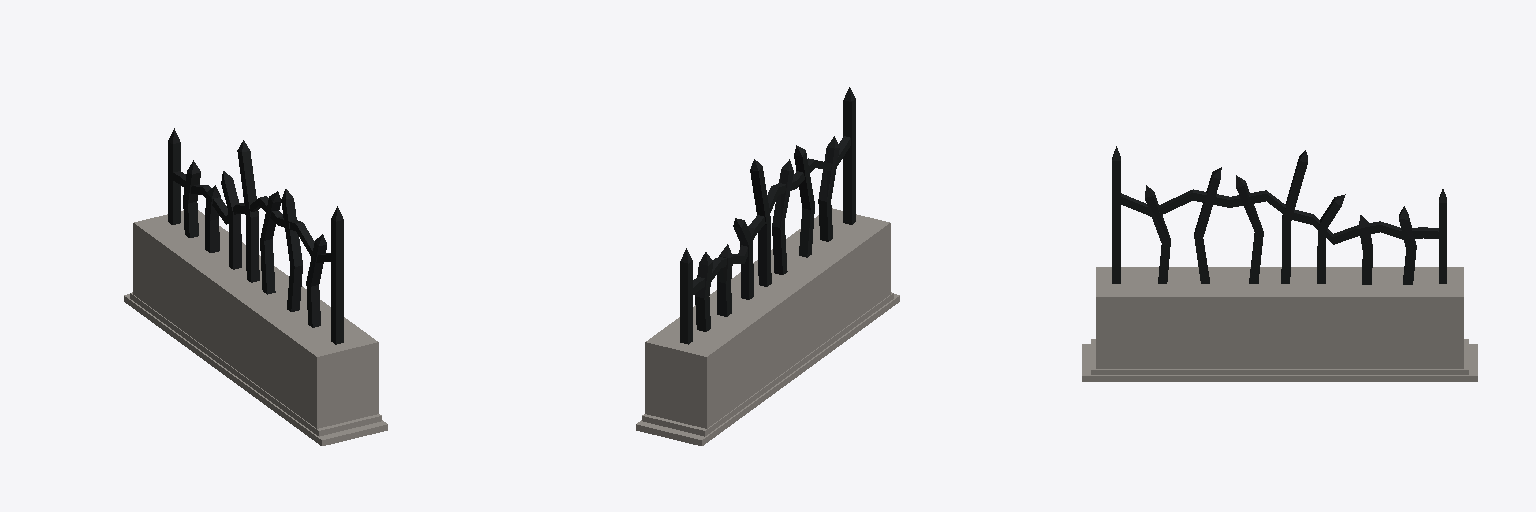
The picture shows the model from 3 angles: view 1: azimuth 30°, elevation 25°; view 2: azimuth 150°, elevation 25°; view 3: azimuth 270°, elevation 25°; orthographic projection.
Visible parts, largest first — view 1: がれき壁３; view 2: がれき壁３; view 3: がれき壁３.
Part boxes in pixels (left/top/right/bottom): がれき壁３: left=124, top=128, right=387, bottom=445; がれき壁３: left=636, top=87, right=899, bottom=445; がれき壁３: left=1082, top=146, right=1477, bottom=381.
Size of the model in its own units: 1.64 by 5.19 by 8.48.
5 materials, 1 textured.